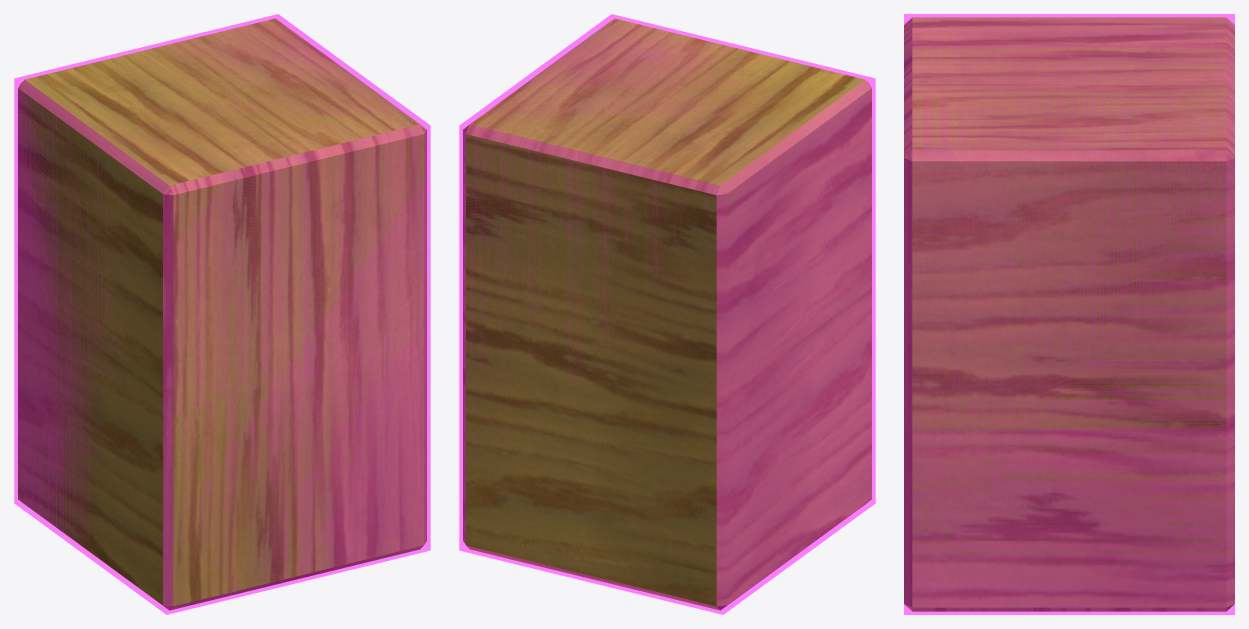
Rendered from tumiki_C.fbx.
The picture shows the model from 3 angles, left to right: view 1: azimuth 30°, elevation 25°; view 2: azimuth 150°, elevation 25°; view 3: azimuth 270°, elevation 25°; orthographic projection. The views are drawn at different scales.
Parts seen in each view (by area): view 1: tumiki_C, boundingbox; view 2: tumiki_C, boundingbox; view 3: tumiki_C, boundingbox.
Part boxes in pixels (box(x1,y1,x2,y2)): tumiki_C: box(18, 18, 426, 610); boundingbox: box(14, 14, 430, 614); tumiki_C: box(463, 18, 871, 610); boundingbox: box(459, 14, 875, 614); tumiki_C: box(904, 17, 1234, 611); boundingbox: box(904, 14, 1234, 614).
Bounding box in the file's own units: 2.6 × 4 × 2.6.
Materials: 2 (1 with a texture image).
